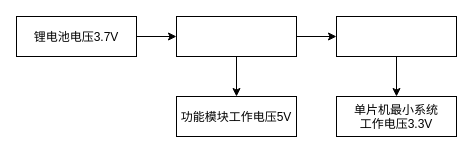
Image size: 475x153. Some labels were removed from this diagram. Here are the shapes that lost their labels. From the top down, the centre of each, then its label:
(236,36): IP5306升压至5V
(396,36): AMS1117LDO降压3.3V
